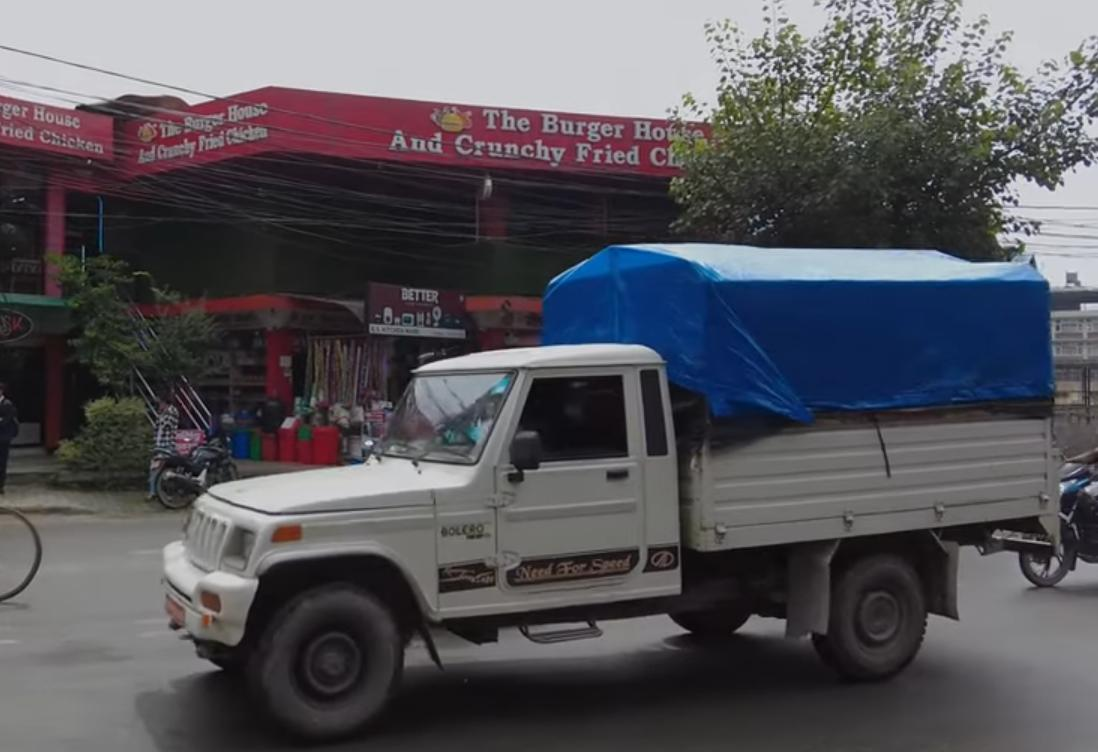bike: (149, 412, 263, 519)
transport_vehicle: (147, 211, 1060, 752)
